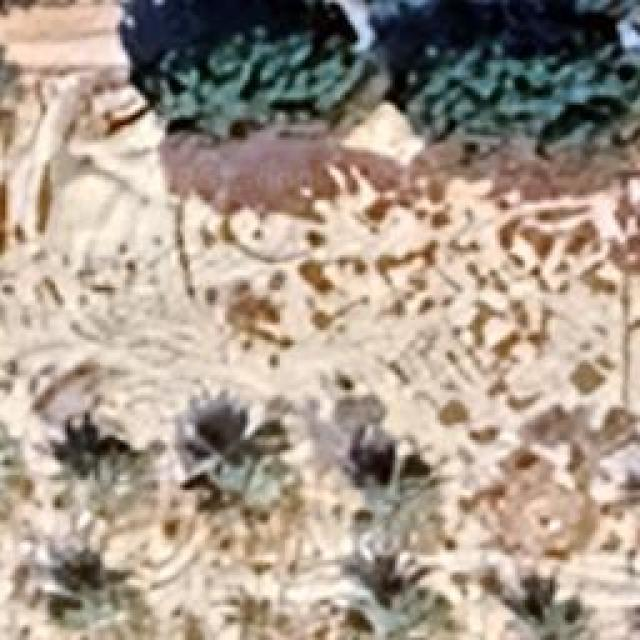PalmTree: (53, 78, 115, 601), (12, 109, 53, 474), (182, 418, 292, 512), (46, 412, 149, 506), (346, 442, 442, 530), (354, 562, 444, 640), (500, 598, 600, 638), (0, 421, 17, 527)
